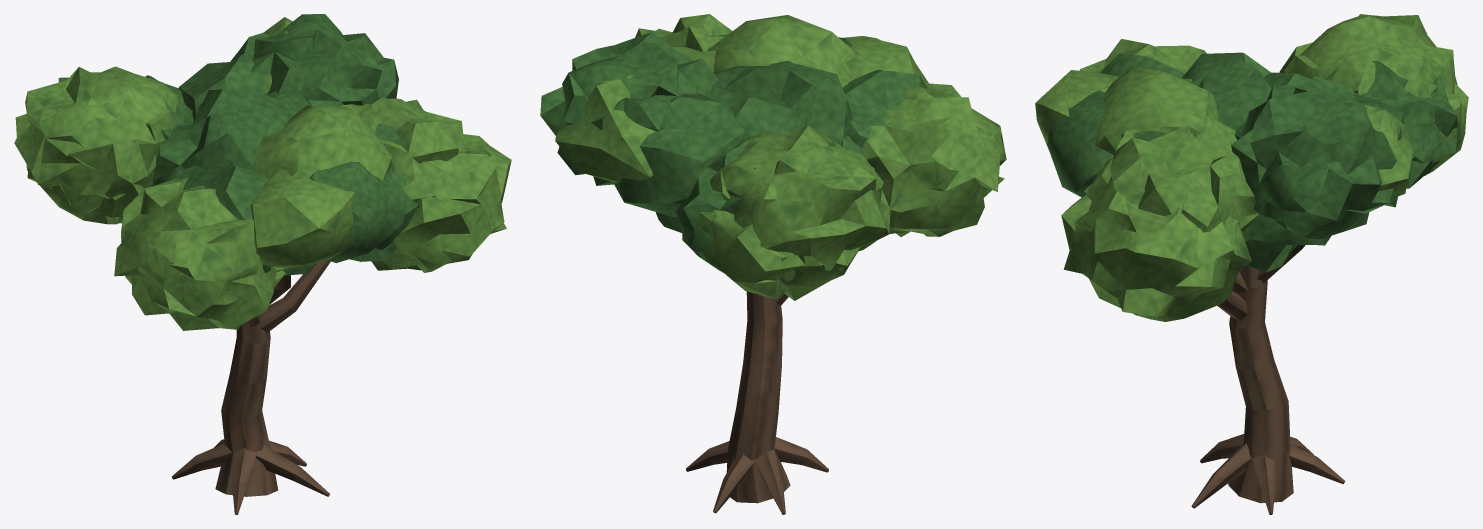
File: SM_Tree_Oak_Medium02.fbx
3 renders of one model, left to right at view 1: azimuth 30°, elevation 25°; view 2: azimuth 150°, elevation 25°; view 3: azimuth 270°, elevation 25°, orthographic. The views are drawn at different scales.
Visible parts, largest first — view 1: SM_Tree_Oak_Medium02; view 2: SM_Tree_Oak_Medium02; view 3: SM_Tree_Oak_Medium02.
Boxes of the visible parts, box(x1,y1,x2,y2) form: SM_Tree_Oak_Medium02: box(14, 14, 511, 514); SM_Tree_Oak_Medium02: box(540, 14, 1006, 514); SM_Tree_Oak_Medium02: box(1035, 14, 1468, 514).
Bounding box in the file's own units: 13.96 × 14.65 × 12.88.
1 material, 1 textured.
